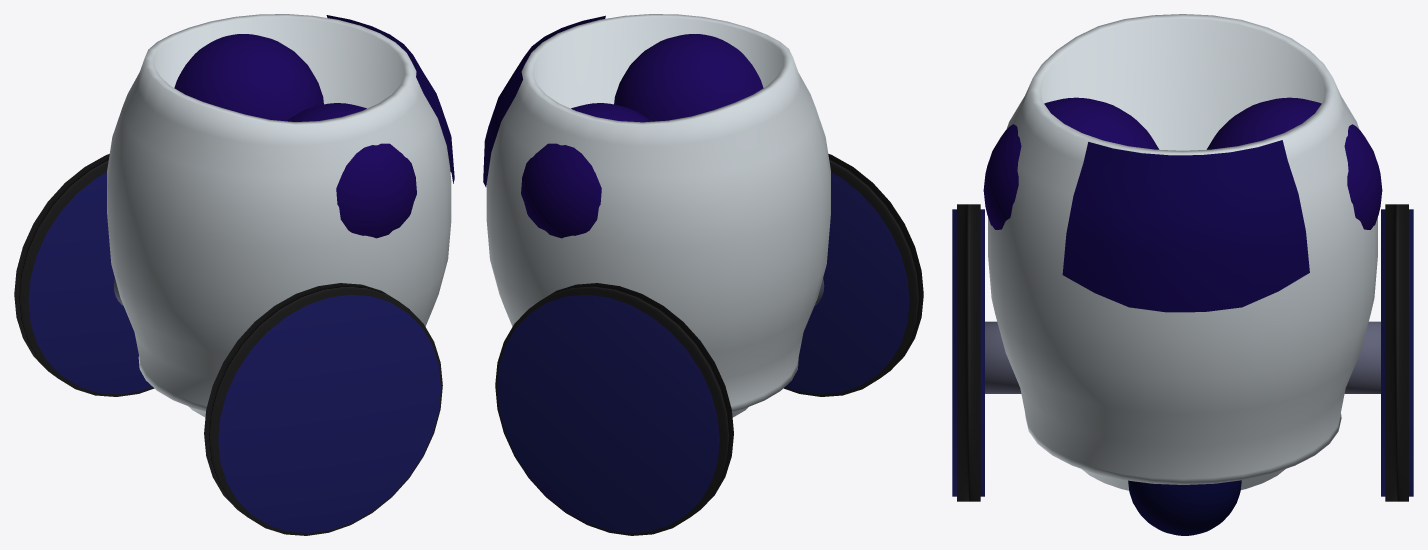
File: qbo_body.dae
The picture shows the model from 3 angles, left to right: view 1: azimuth 30°, elevation 25°; view 2: azimuth 150°, elevation 25°; view 3: azimuth 270°, elevation 25°; orthographic projection. The views are drawn at different scales.
Parts seen in each view (by area): view 1: Cylinder_006, Cylinder_004, Sphere_006, Cylinder_002, Cylinder_001; view 2: Cylinder_006, Cylinder_004, Sphere_006, Cylinder_002, Cylinder_001; view 3: Cylinder_006, Cylinder_001, Cylinder_002, Sphere_006, Cylinder_004, Sphere_001, Cylinder_005.
Boxes of the visible parts, x1,y1,x2,y2 form: Cylinder_006: (107, 14, 451, 417); Cylinder_004: (28, 172, 440, 533); Sphere_006: (174, 34, 416, 238); Cylinder_002: (14, 154, 442, 535); Cylinder_001: (326, 15, 454, 183); Cylinder_006: (486, 14, 830, 417); Cylinder_004: (497, 172, 909, 533); Sphere_006: (521, 34, 763, 238); Cylinder_002: (495, 154, 923, 535); Cylinder_001: (483, 15, 605, 186); Cylinder_006: (988, 14, 1377, 490); Cylinder_001: (1062, 140, 1309, 312); Cylinder_002: (957, 204, 1408, 501); Sphere_006: (983, 97, 1382, 229); Cylinder_004: (952, 209, 1413, 496); Sphere_001: (1128, 480, 1241, 535); Cylinder_005: (985, 321, 1380, 393).
Bounding box in the file's own units: 0.4176 × 0.4651 × 0.4873.
